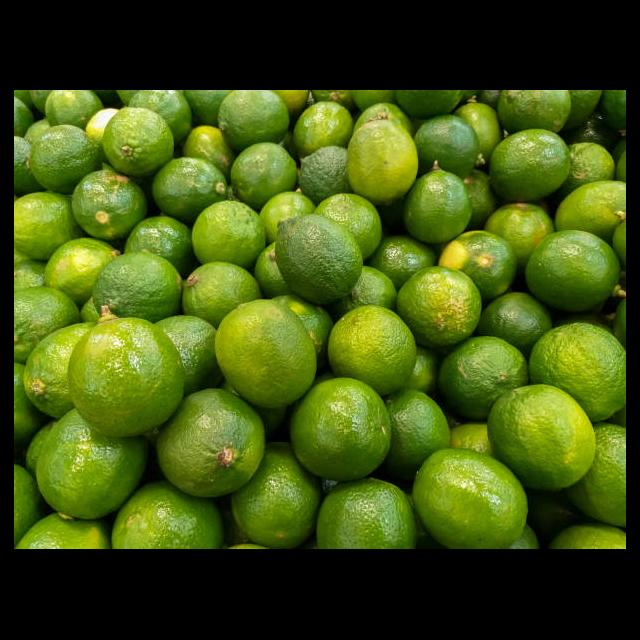lime: (67, 318, 188, 440), (214, 299, 319, 410), (272, 214, 364, 310)
